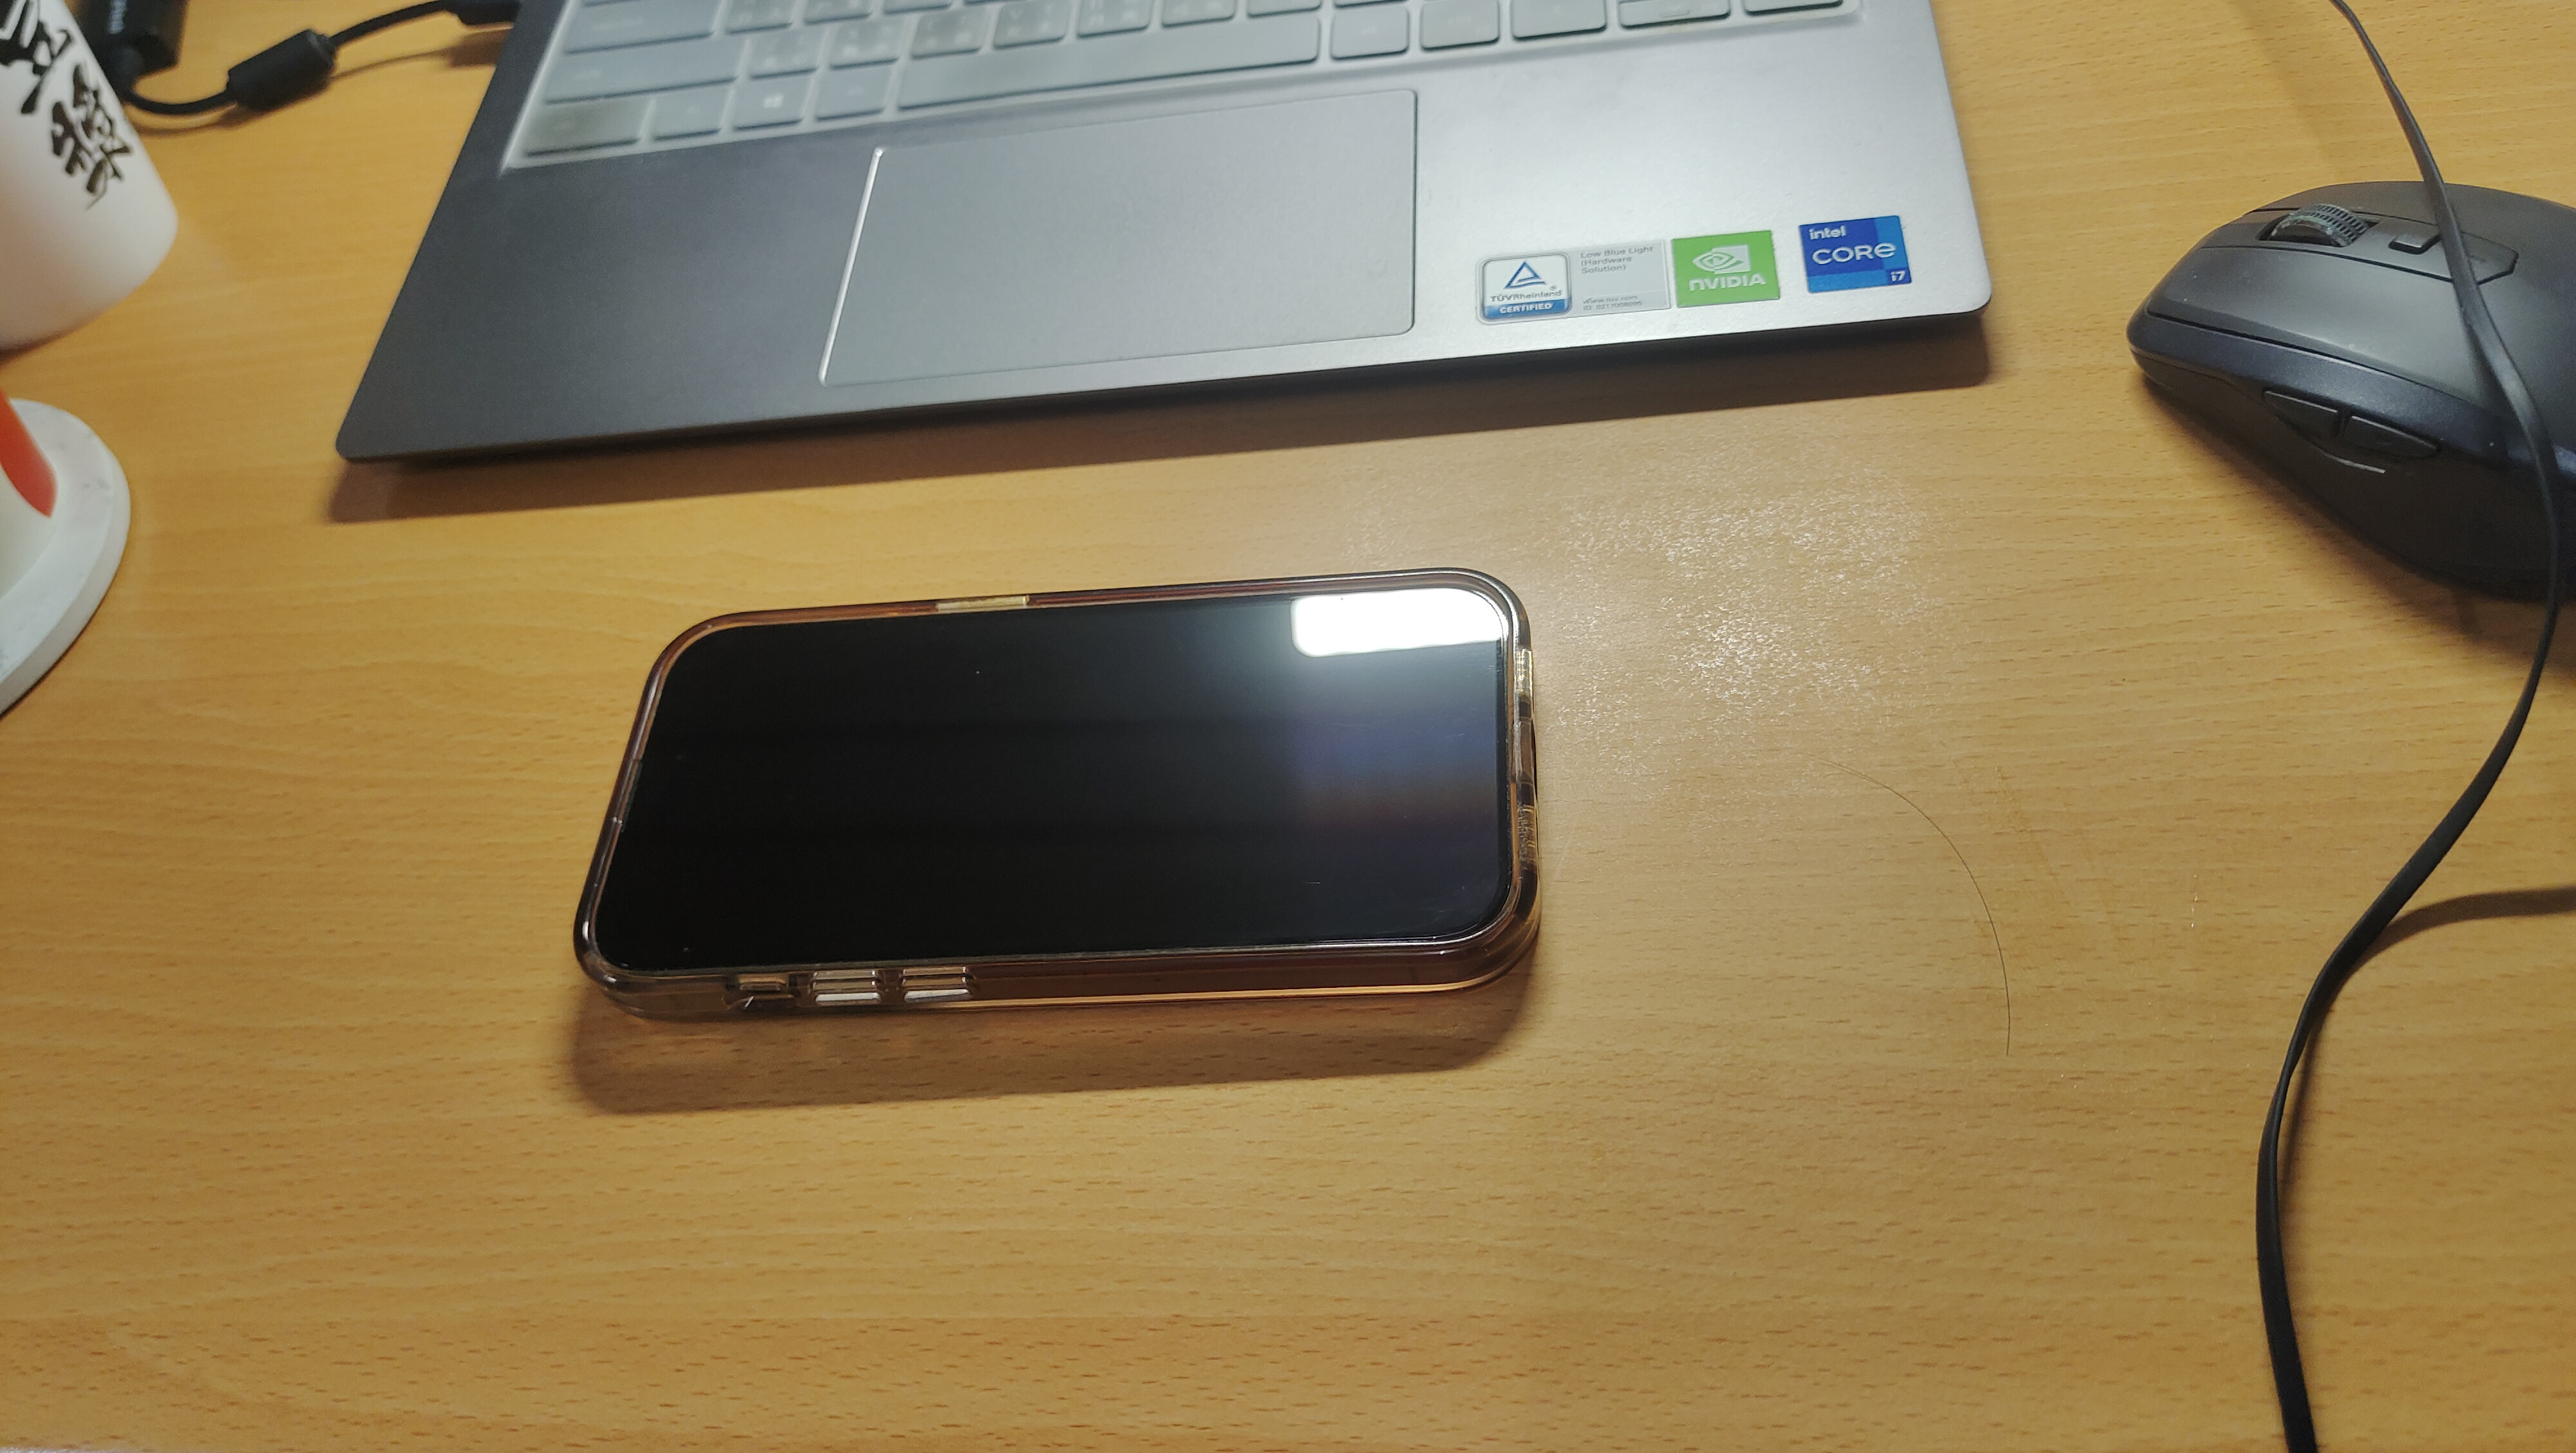iphone: (575, 568, 1545, 1025)
